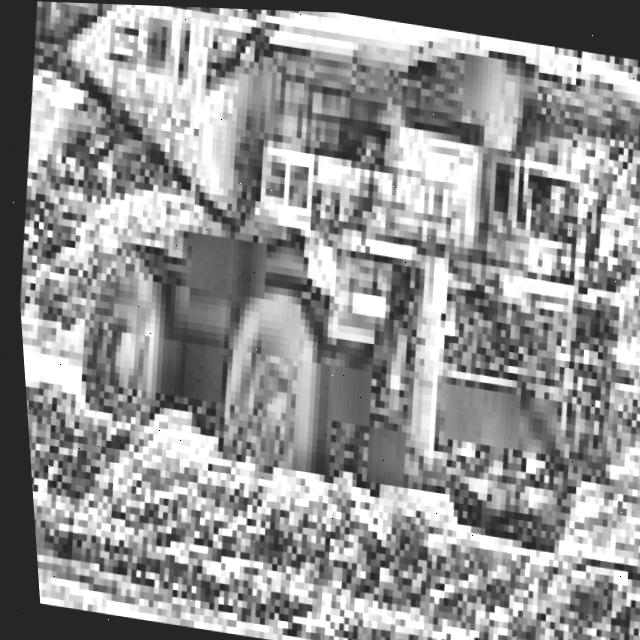dump_truck: (0, 0, 640, 591)
